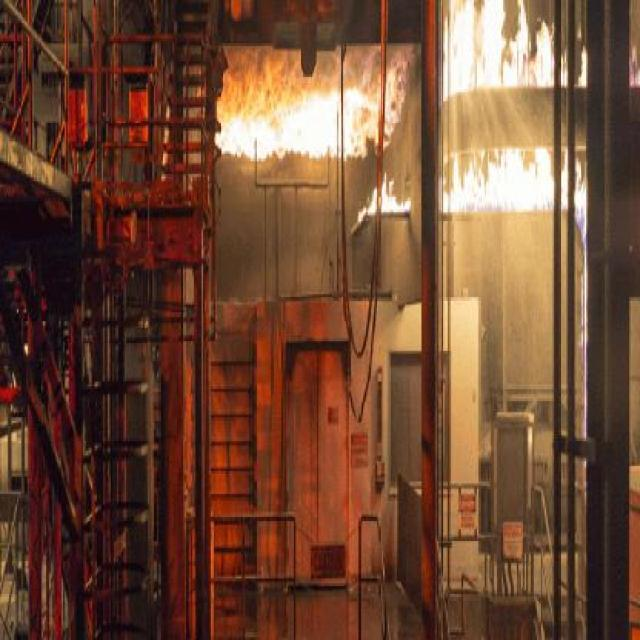Fire: (214, 93, 370, 162), (446, 150, 554, 210), (444, 0, 507, 94), (514, 0, 554, 91), (576, 153, 590, 244), (501, 46, 516, 91), (560, 143, 569, 214), (380, 180, 397, 214), (577, 41, 588, 90), (558, 46, 567, 88), (393, 193, 413, 210), (366, 184, 377, 212), (356, 202, 367, 221)
